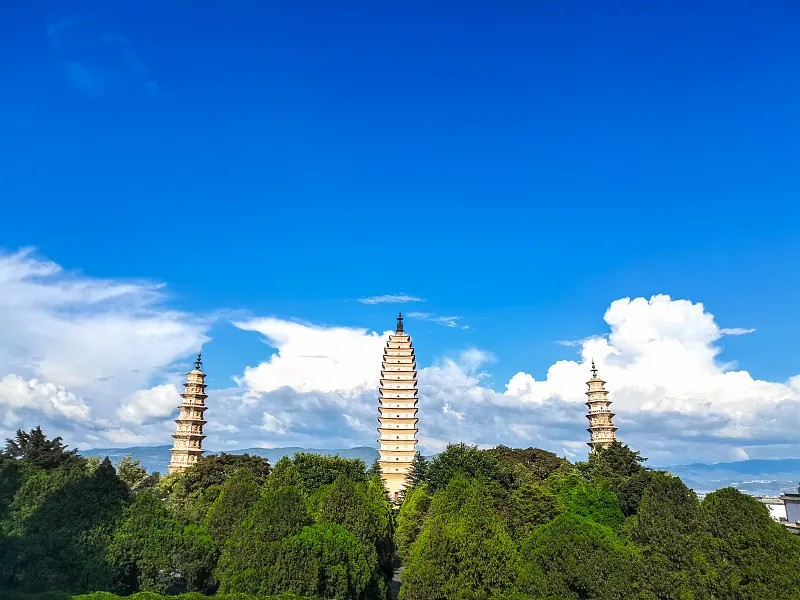ThreePagoda: (376, 314, 418, 502)
